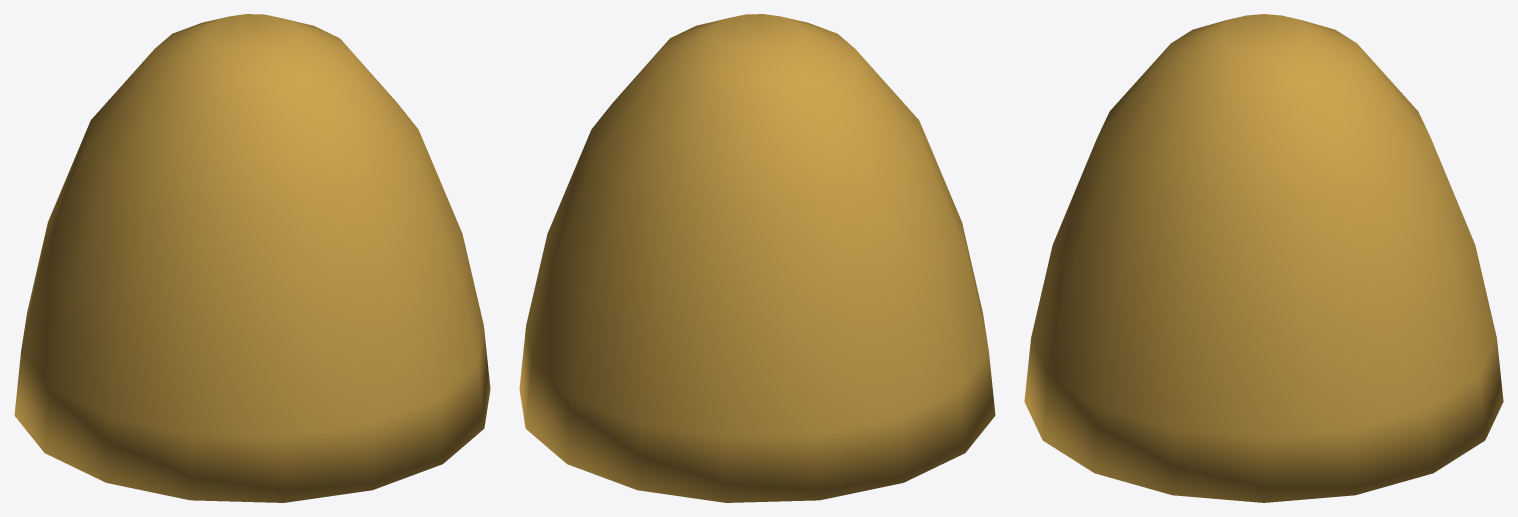
The model's file is сено.fbx.
The picture shows the model from 3 angles, left to right: view 1: azimuth 30°, elevation 25°; view 2: azimuth 150°, elevation 25°; view 3: azimuth 270°, elevation 25°; orthographic projection.
Visible parts, largest first — view 1: Circle; view 2: Circle; view 3: Circle.
Boxes of the visible parts, x1,y1,x2,y2 form: Circle: [14, 14, 490, 502]; Circle: [519, 14, 995, 502]; Circle: [1024, 14, 1503, 502].
Bounding box in the file's own units: 272 × 230 × 272.
